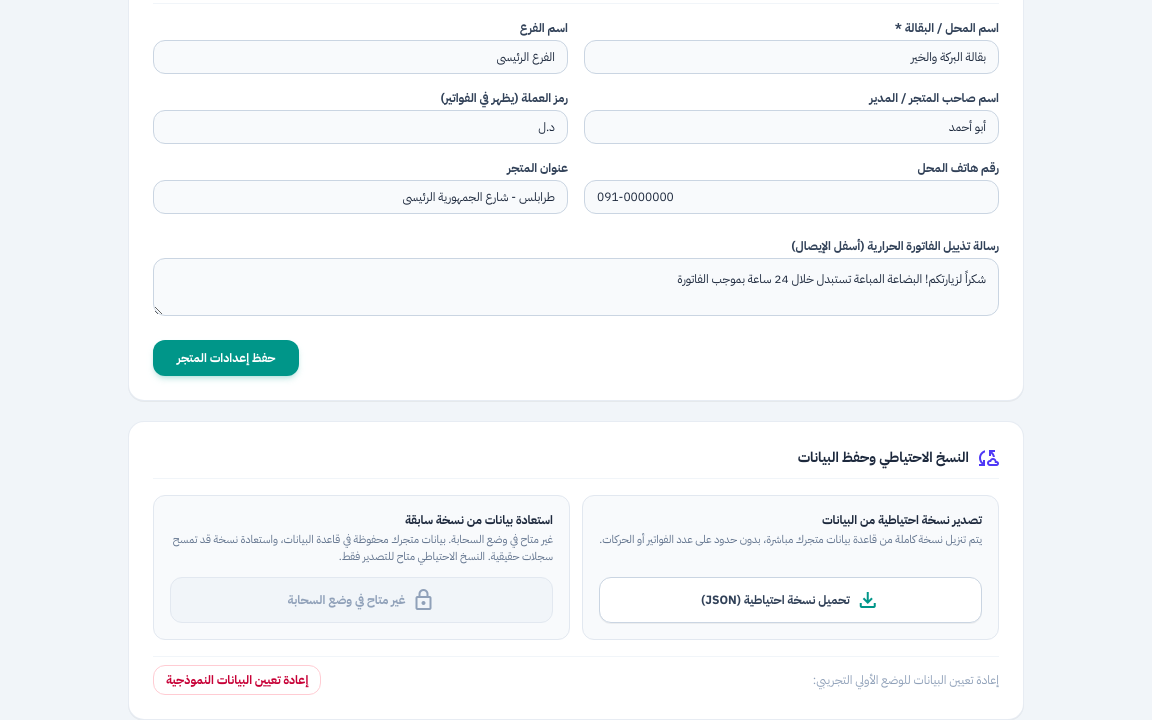
Test: SettingsView - backup controls in cloud mode › can still cancel the demo reset
This screenshot has width=1152, height=720.
(page scrolled)
Step 1. Click the button "إعادة تعيين البيانات النموذجية" → (237, 680), box [153,665,321,695]
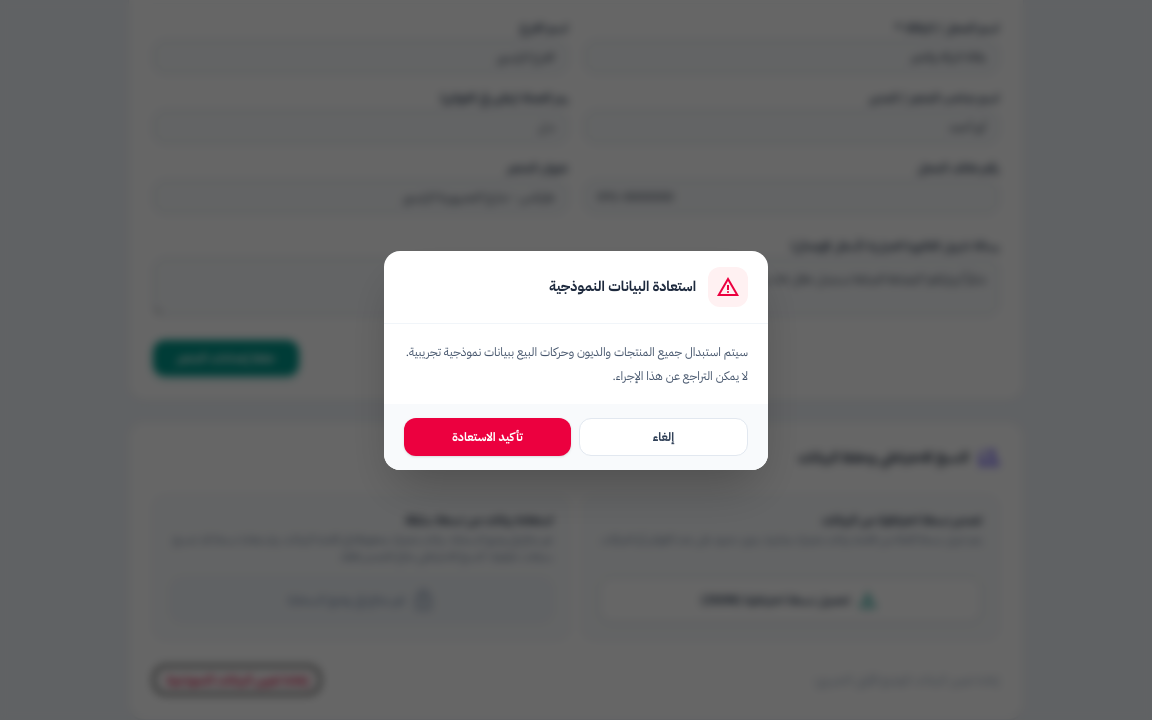
Step 2. Click the button "إلغاء" → (664, 436), box [579,418,748,456]
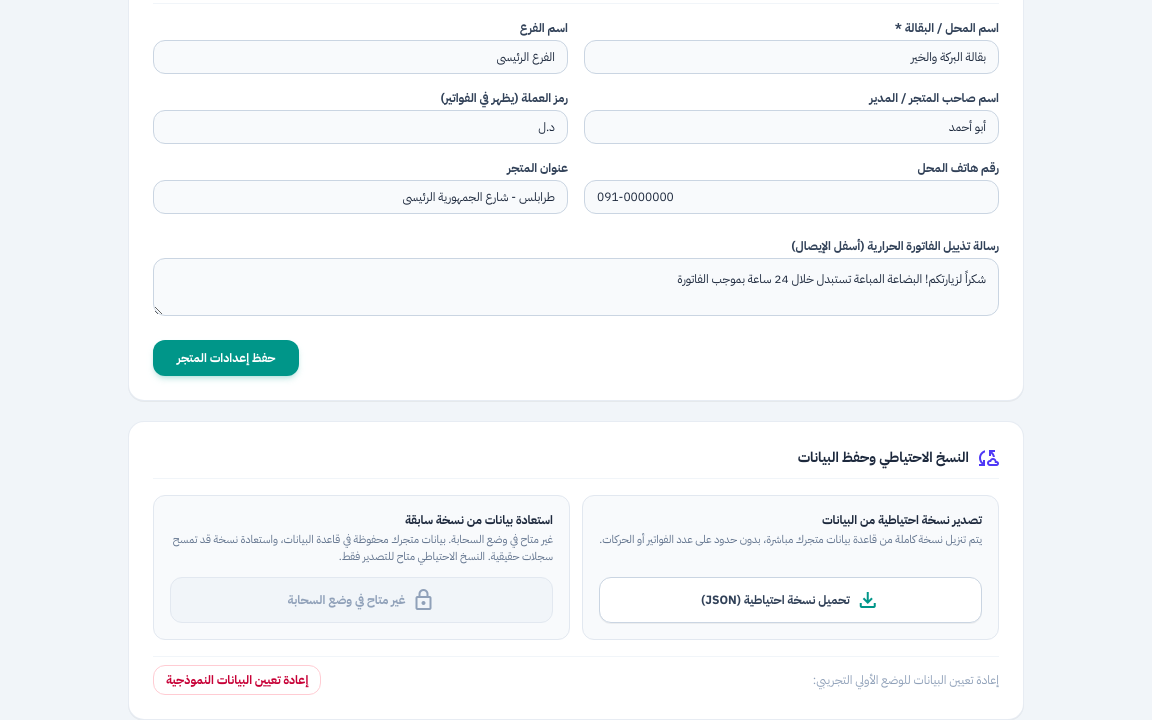
Now the button "تأكيد الاستعادة" is gone
